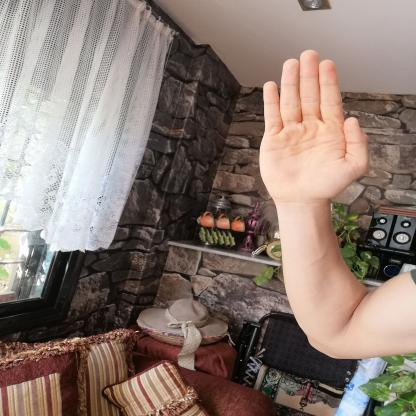SEEN: (244, 43, 380, 212)
